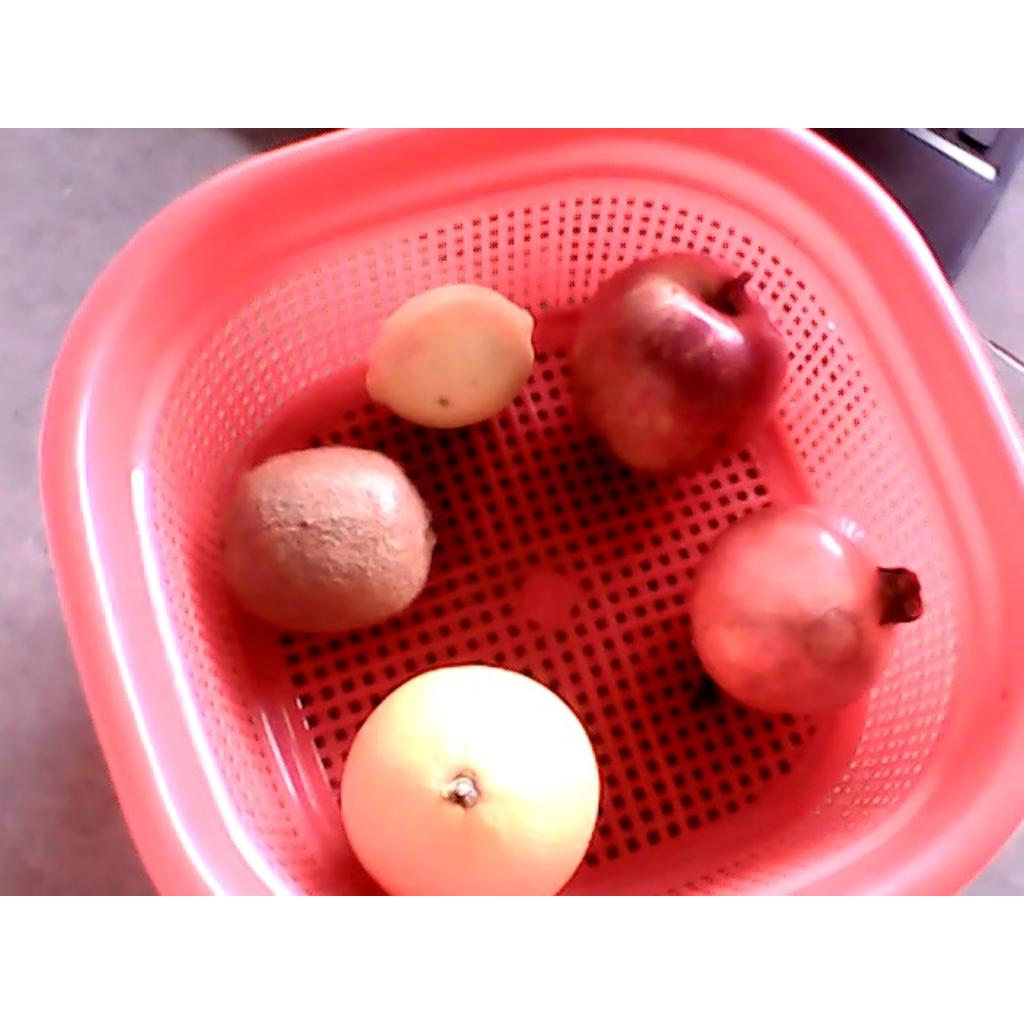apple: (571, 252, 789, 478)
kiwi: (220, 447, 433, 631)
lemon: (364, 281, 535, 428)
orange: (339, 666, 599, 894)
pomegranate: (691, 501, 925, 715)
